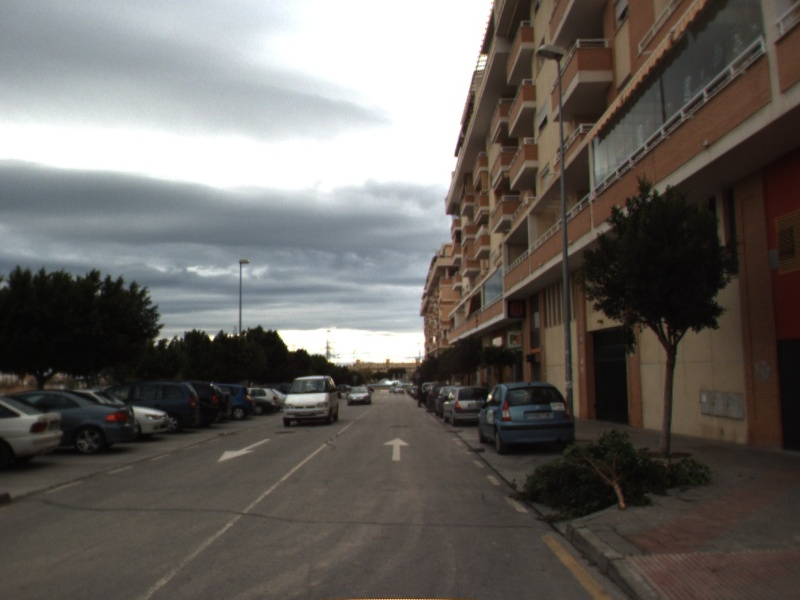STRAIGHT: (381, 435, 412, 462)
